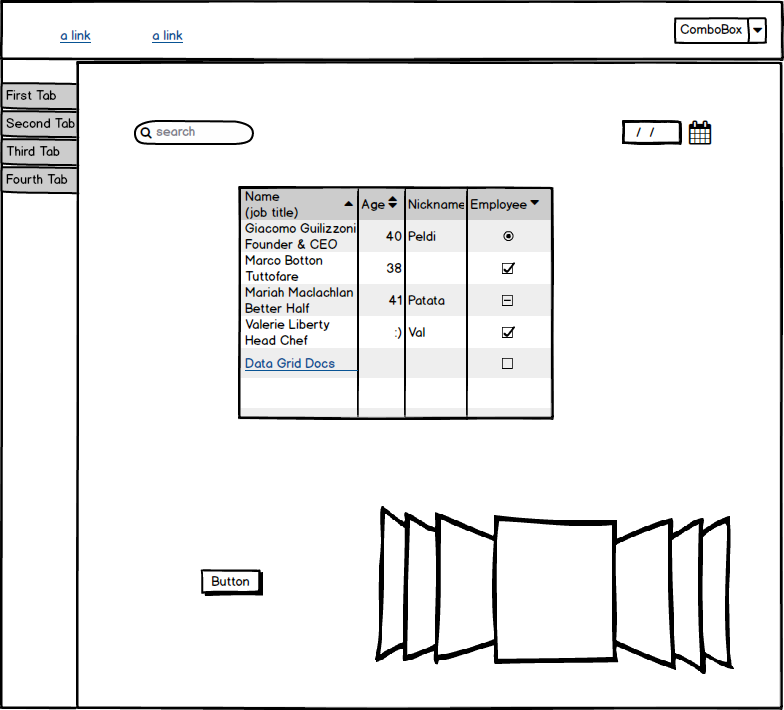button: (192, 565, 277, 601)
date_picker: (617, 115, 724, 148)
navlink: (147, 23, 195, 50), (54, 26, 103, 46)
search: (128, 118, 261, 148)
select_box: (669, 12, 772, 47)
sidebar: (2, 74, 90, 203)
slideshow: (362, 504, 745, 676)
table: (233, 184, 558, 422)
